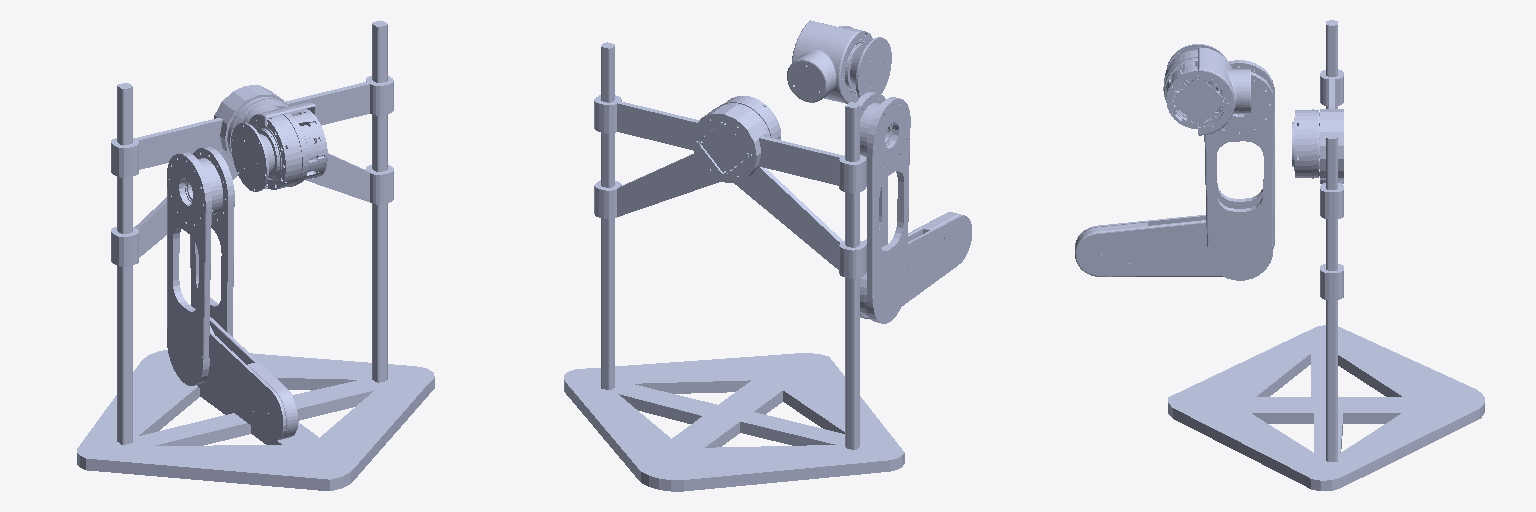
URDF robot description (titanleg):
<?xml version="1.0" encoding="utf-8"?>
<robot
  name="titanleg" xmlns:xacro="http://ros.org/wiki/xacro">
  <link
    name="world_link"/>
  <link
    name="base_link">
    <inertial>
      <origin
        xyz="0.21565 -0.46827 0.268"
        rpy="0 0 0" />
      <mass
        value="3.0381" />
      <inertia
        ixx="0.12285"
        ixy="3.1439E-09"
        ixz="1.6497E-07"
        iyy="0.18411"
        iyz="-0.00015614"
        izz="0.074368" />
    </inertial>
    <visual>
      <origin
        xyz="0 0 0"
        rpy="0 0 0" />
      <geometry>
        <mesh
          filename="package://my_box_bot_gazebo/meshes/base_link.STL" />
      </geometry>
      <material
        name="">
        <color
          rgba="0.79216 0.81961 0.93333 1" />
      </material>
    </visual>
    <collision>
      <origin
        xyz="0 0 0"
        rpy="0 0 0" />
      <geometry>
        <mesh
          filename="package://my_box_bot_gazebo/meshes/base_link.STL" />
      </geometry>
    </collision>
  </link>
  <joint
    name="dummy_joint"
    type="fixed">
    <parent
      link="world_link" />
    <child
      link="base_link" />
  </joint>
  <link
    name="c_bracket">
    <inertial>
      <origin
        xyz="-0.062116 6.6638E-06 -0.041987"
        rpy="0 0 0" />
      <mass
        value="0.19414" />
      <inertia
        ixx="0.00026116"
        ixy="-1.0452E-08"
        ixz="-3.7218E-08"
        iyy="0.00018791"
        iyz="-1.7868E-09"
        izz="0.00024616" />
    </inertial>
    <visual>
      <origin
        xyz="0 0 0"
        rpy="0 0 0" />
      <geometry>
        <mesh
          filename="package://my_box_bot_gazebo/meshes/c_bracket.STL" />
      </geometry>
      <material
        name="">
        <color
          rgba="0.79216 0.81961 0.93333 1" />
      </material>
    </visual>
    <collision>
      <origin
        xyz="0 0 0"
        rpy="0 0 0" />
      <geometry>
        <mesh
          filename="package://my_box_bot_gazebo/meshes/c_bracket.STL" />
      </geometry>
    </collision>
  </link>
  <joint
    name="c_b"
    type="revolute">
    <origin
      xyz="0.25765 -0.61988 0.5435"
      rpy="-1.5708 0 -1.5708" />
    <parent
      link="base_link" />
    <child
      link="c_bracket" />
    <axis
      xyz="1 0 0" />
    <limit
      lower="0"
      upper="0"
      effort="0"
      velocity="0" />
  </joint>
  <link
    name="acc">
    <inertial>
      <origin
        xyz="0.013737 0.058962 0.15056"
        rpy="0 0 0" />
      <mass
        value="0.58081" />
      <inertia
        ixx="0.00049231"
        ixy="-1.6607E-07"
        ixz="-3.4927E-09"
        iyy="0.0004923"
        iyz="3.0309E-09"
        izz="0.00090533" />
    </inertial>
    <visual>
      <origin
        xyz="0 0 0"
        rpy="0 0 0" />
      <geometry>
        <mesh
          filename="package://my_box_bot_gazebo/meshes/acc.STL" />
      </geometry>
      <material
        name="">
        <color
          rgba="0.79216 0.81961 0.93333 1" />
      </material>
    </visual>
    <collision>
      <origin
        xyz="0 0 0"
        rpy="0 0 0" />
      <geometry>
        <mesh
          filename="package://my_box_bot_gazebo/meshes/acc.STL" />
      </geometry>
    </collision>
  </link>
  <joint
    name="acc_abd_knee"
    type="fixed">
    <origin
      xyz="0.058961 0.013735 0.086158"
      rpy="3.1416 0 -1.5708" />
    <parent
      link="c_bracket" />
    <child
      link="acc" />
    <axis
      xyz="0 0 0" />
  </joint>
  <link
    name="acc_knee">
    <inertial>
      <origin
        xyz="0.013737 0.058961 0.14374"
        rpy="0 0 0" />
      <mass
        value="0.48785" />
      <inertia
        ixx="0.00046194"
        ixy="-1.6535E-07"
        ixz="-3.4671E-09"
        iyy="0.00046194"
        iyz="3.0958E-09"
        izz="0.00078912" />
    </inertial>
    <visual>
      <origin
        xyz="0 0 0"
        rpy="0 0 0" />
      <geometry>
        <mesh
          filename="package://my_box_bot_gazebo/meshes/acc_knee.STL" />
      </geometry>
      <material
        name="">
        <color
          rgba="0.79216 0.81961 0.93333 1" />
      </material>
    </visual>
    <collision>
      <origin
        xyz="0 0 0"
        rpy="0 0 0" />
      <geometry>
        <mesh
          filename="package://my_box_bot_gazebo/meshes/acc_knee.STL" />
      </geometry>
    </collision>
  </link>
  <joint
    name="adb_knee"
    type="fixed">
    <origin
      xyz="-0.0281 0.015201 0.109"
      rpy="0 0 -0.53405" />
    <parent
      link="acc" />
    <child
      link="acc_knee" />
    <axis
      xyz="0 0 0" />
  </joint>
  <link
    name="upperleg">
    <inertial>
      <origin
        xyz="1.9483E-07 -0.13685 -0.014"
        rpy="0 0 0" />
      <mass
        value="0.73179" />
      <inertia
        ixx="0.010031"
        ixy="2.4954E-09"
        ixz="-2.6224E-07"
        iyy="0.00093177"
        iyz="-7.7788E-12"
        izz="0.010945" />
    </inertial>
    <visual>
      <origin
        xyz="0 0 0"
        rpy="0 0 0" />
      <geometry>
        <mesh
          filename="package://my_box_bot_gazebo/meshes/upperleg.STL" />
      </geometry>
      <material
        name="">
        <color
          rgba="0.79216 0.81961 0.93333 1" />
      </material>
    </visual>
    <collision>
      <origin
        xyz="0 0 0"
        rpy="0 0 0" />
      <geometry>
        <mesh
          filename="package://my_box_bot_gazebo/meshes/upperleg.STL" />
      </geometry>
    </collision>
  </link>
  <joint
    name="acc_ul"
    type="fixed">
    <origin
      xyz="0.013735 0.058961 0.18616"
      rpy="3.1416 0 2.0944" />
    <parent
      link="acc_knee" />
    <child
      link="upperleg" />
    <axis
      xyz="0 0 0" />
  </joint>
  <link
    name="pulley">
    <inertial>
      <origin
        xyz="-1.6514E-05 -1.6379E-05 0.014001"
        rpy="0 0 0" />
      <mass
        value="0.15149" />
      <inertia
        ixx="9.4644E-05"
        ixy="-1.1266E-08"
        ixz="-4.3145E-09"
        iyy="9.4575E-05"
        iyz="-7.8319E-10"
        izz="0.0001694" />
    </inertial>
    <visual>
      <origin
        xyz="0 0 0"
        rpy="0 0 0" />
      <geometry>
        <mesh
          filename="package://my_box_bot_gazebo/meshes/pulley.STL" />
      </geometry>
      <material
        name="">
        <color
          rgba="0.79216 0.81961 0.93333 1" />
      </material>
    </visual>
    <collision>
      <origin
        xyz="0 0 0"
        rpy="0 0 0" />
      <geometry>
        <mesh
          filename="package://my_box_bot_gazebo/meshes/pulley.STL" />
      </geometry>
    </collision>
  </link>
  <joint
    name="acc_pulley"
    type="fixed">
    <origin
      xyz="0.013735 0.058961 0.21416"
      rpy="3.1416 0 -1.3981" />
    <parent
      link="acc_knee" />
    <child
      link="pulley" />
    <axis
      xyz="0 0 0" />
  </joint>
  <link
    name="lowerleg">
    <inertial>
      <origin
        xyz="0.12376 0.15623 0.20854"
        rpy="0 0 0" />
      <mass
        value="0.66281" />
      <inertia
        ixx="0.0053278"
        ixy="-8.1103E-06"
        ixz="3.0145E-07"
        iyy="0.00048348"
        iyz="0.00018364"
        izz="0.0057605" />
    </inertial>
    <visual>
      <origin
        xyz="0 0 0"
        rpy="0 0 0" />
      <geometry>
        <mesh
          filename="package://my_box_bot_gazebo/meshes/lowerleg.STL" />
      </geometry>
      <material
        name="">
        <color
          rgba="0.79216 0.81961 0.93333 1" />
      </material>
    </visual>
    <collision>
      <origin
        xyz="0 0 0"
        rpy="0 0 0" />
      <geometry>
        <mesh
          filename="package://my_box_bot_gazebo/meshes/lowerleg.STL" />
      </geometry>
    </collision>
  </link>
  <joint
    name="pulley_lowl"
    type="fixed">
    <origin
      xyz="0.38429 0.29106 0.22292"
      rpy="-3.1416 0 -1.8781" />
    <parent
      link="pulley" />
    <child
      link="lowerleg" />
    <axis
      xyz="0 0 0" />
  </joint>
</robot>

--- Render facts (derived) ---
The picture shows the robot from 3 angles, left to right: view 1: azimuth 30°, elevation 25°; view 2: azimuth 150°, elevation 25°; view 3: azimuth 270°, elevation 25°; orthographic projection.
Robot: titanleg — 8 links, 7 joints (1 revolute, 6 fixed); root link world_link; default pose: all joints at 0.
Links seen in each view (by area): view 1: base_link, upperleg, c_bracket, lowerleg, pulley; view 2: base_link, upperleg, c_bracket, lowerleg, pulley; view 3: base_link, upperleg, lowerleg, c_bracket.
Boxes of the visible links, x1,y1,x2,y2 form: base_link: (77, 20, 434, 490); upperleg: (167, 147, 234, 385); c_bracket: (231, 102, 327, 191); lowerleg: (197, 317, 298, 440); pulley: (186, 158, 222, 214); base_link: (564, 42, 904, 491); upperleg: (856, 92, 910, 323); c_bracket: (787, 20, 891, 103); lowerleg: (860, 212, 971, 320); pulley: (860, 103, 891, 157); base_link: (1168, 20, 1484, 490); upperleg: (1204, 60, 1274, 280); lowerleg: (1075, 215, 1274, 276); c_bracket: (1163, 44, 1250, 135).
Bounding box of the posed robot: 0.6185 × 0.6898 × 0.6309 m (x, y, z).
Meshes: 7 distinct files referenced, 5 mesh visuals loaded (5 binary STL); not drawn: 2 (reference not matched to a file when rendering).